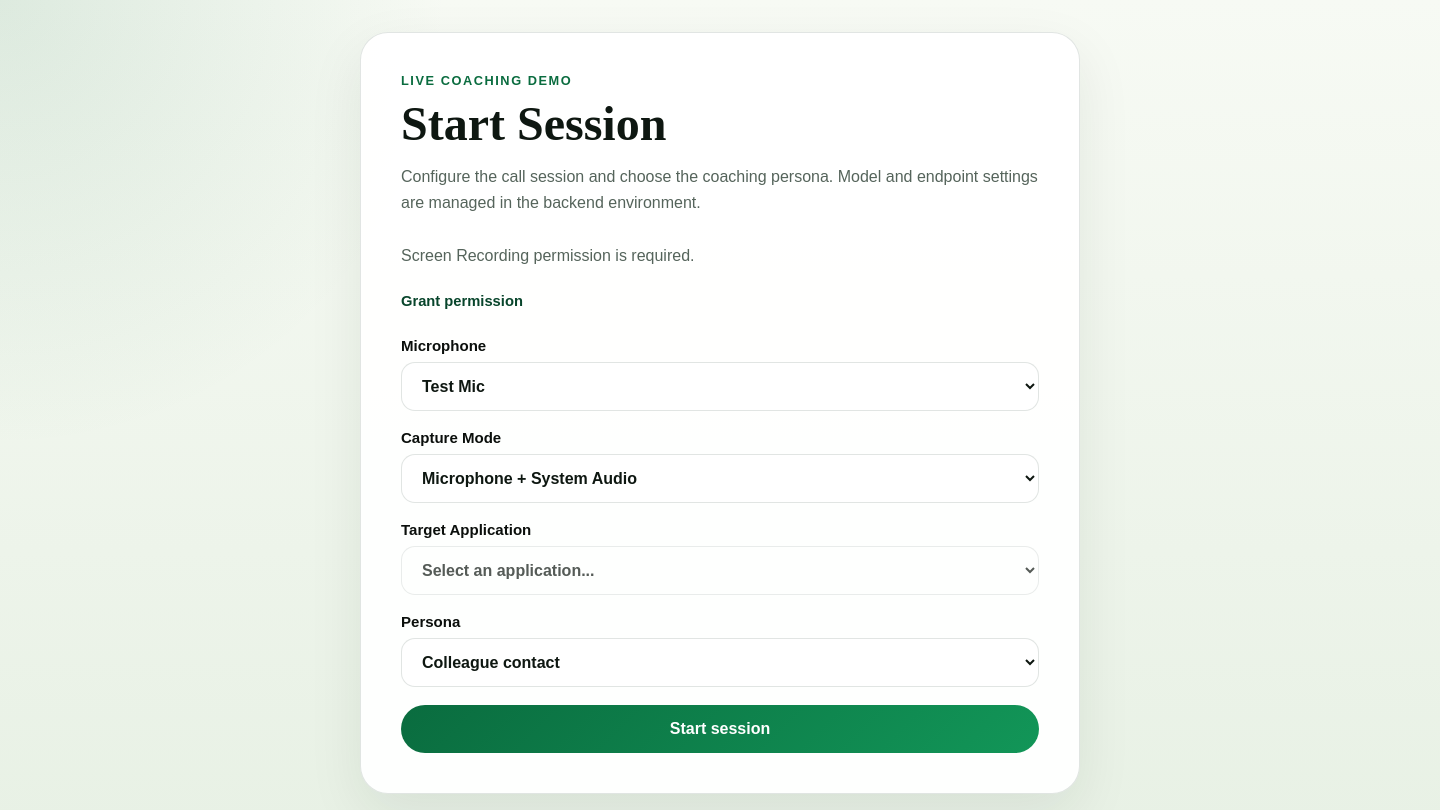
it: SetupScreen › shows a compact permission button only when permission is required
Click the button "Grant permission" at [462, 301], box [401, 285, 523, 317]
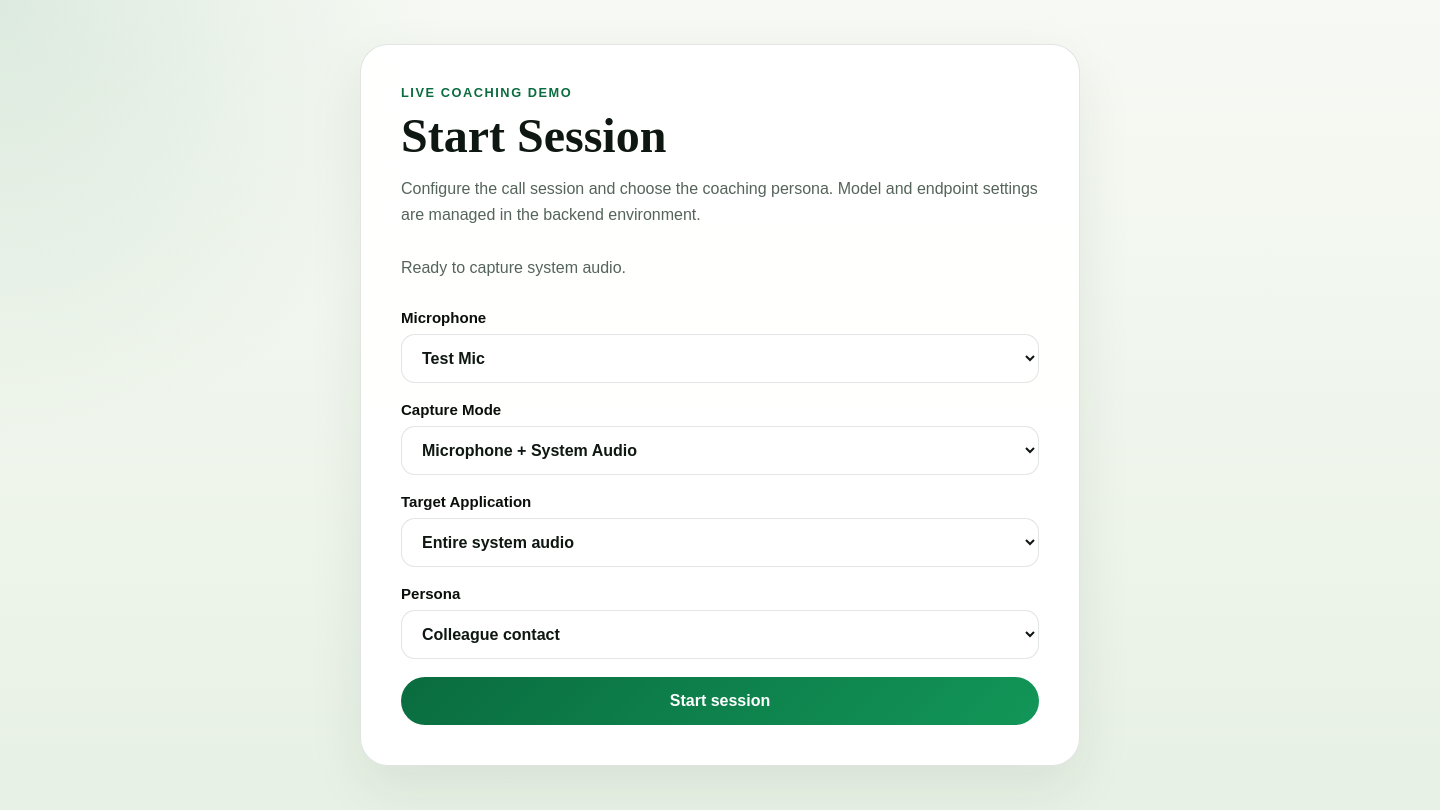
Expected: the button "Grant permission" is gone
